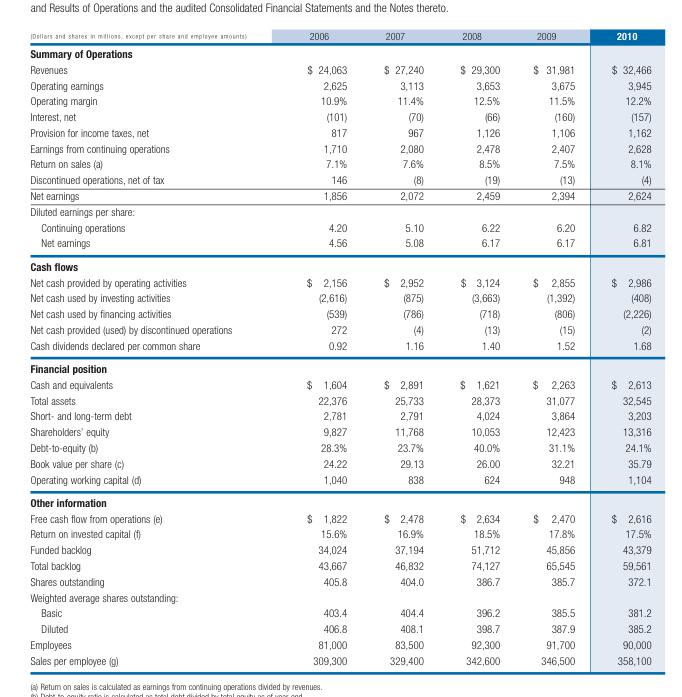table: (29, 28, 650, 665)
table column: (29, 28, 275, 665), (275, 28, 364, 665), (364, 28, 441, 665), (515, 28, 592, 665), (441, 28, 515, 665), (592, 28, 650, 665)
table column header: (29, 28, 650, 43)
table projected row header: (29, 253, 650, 273), (29, 356, 650, 376), (29, 490, 650, 509), (29, 43, 650, 61), (29, 588, 650, 604), (29, 203, 650, 218)
table row: (29, 253, 650, 273), (29, 336, 650, 356), (29, 356, 650, 376), (29, 470, 650, 490), (29, 234, 650, 253), (29, 490, 650, 509), (29, 43, 650, 61), (29, 76, 650, 92), (29, 92, 650, 108), (29, 108, 650, 124), (29, 139, 650, 155), (29, 155, 650, 171), (29, 171, 650, 187), (29, 187, 650, 203), (29, 218, 650, 234), (29, 273, 650, 289), (29, 289, 650, 305), (29, 305, 650, 321), (29, 391, 650, 407), (29, 407, 650, 423), (29, 423, 650, 439), (29, 454, 650, 470), (29, 509, 650, 525), (29, 525, 650, 541), (29, 541, 650, 557), (29, 572, 650, 588), (29, 588, 650, 604), (29, 604, 650, 620), (29, 620, 650, 636), (29, 28, 650, 43), (29, 61, 650, 76), (29, 124, 650, 139), (29, 203, 650, 218), (29, 321, 650, 336), (29, 376, 650, 391), (29, 439, 650, 454), (29, 557, 650, 572), (29, 636, 650, 651), (29, 651, 650, 665)
